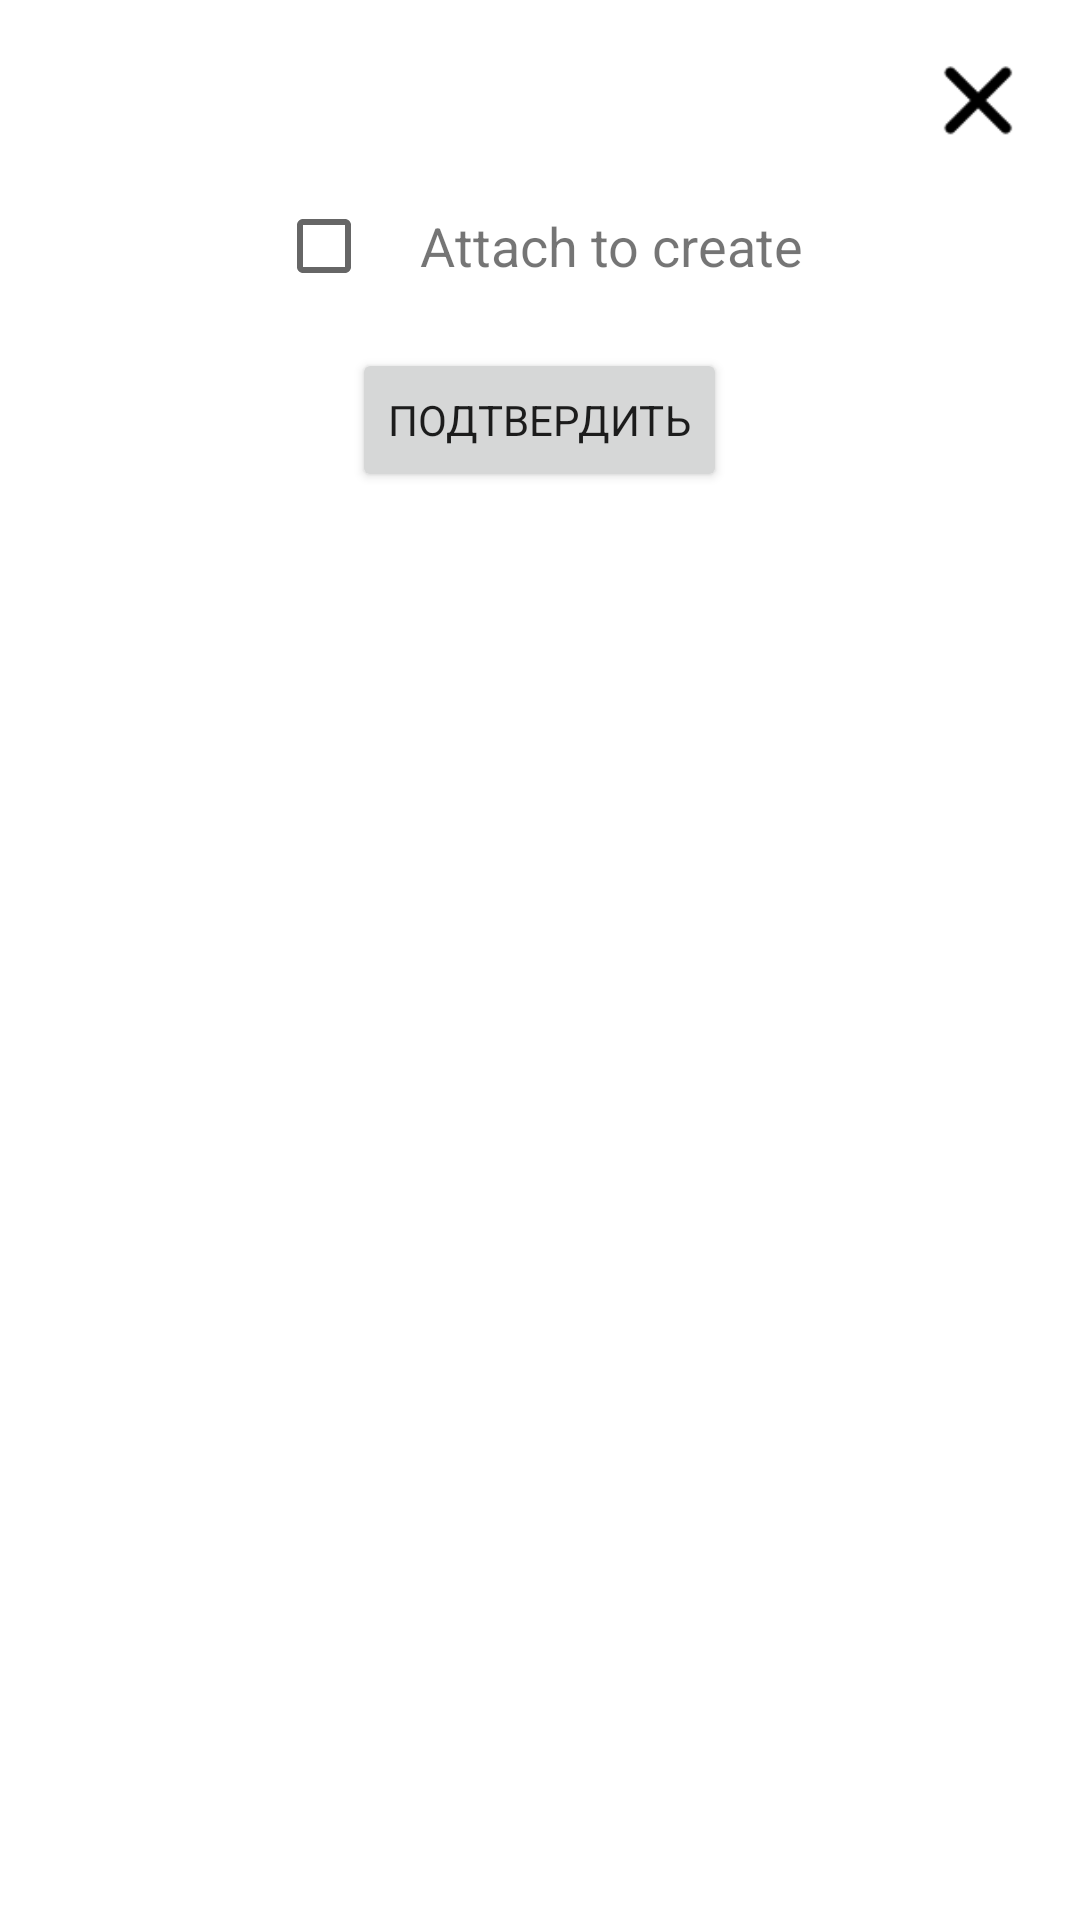

Named icons in this screenshot (1080×1920) and their centers, (x=x, y=y):
cancel: (x=978, y=100)
